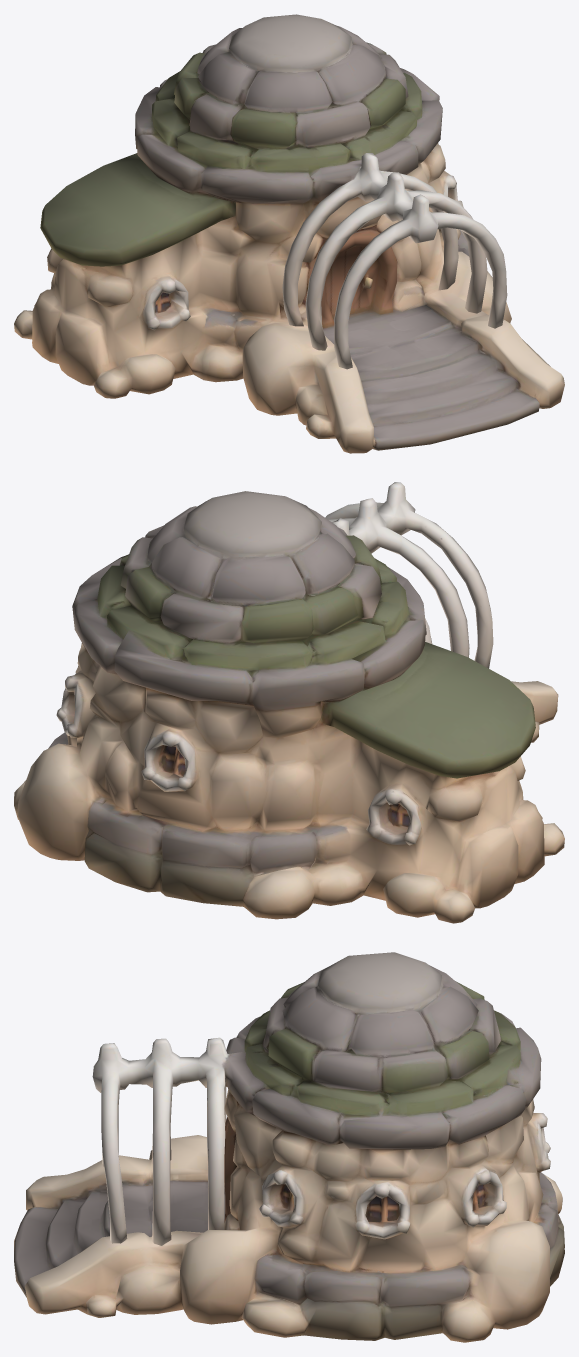
The model's file is bone-museum.glb.
The picture shows the model from 3 angles, top to bottom: view 1: azimuth 30°, elevation 25°; view 2: azimuth 150°, elevation 25°; view 3: azimuth 270°, elevation 25°; orthographic projection. The views are drawn at different scales.
Parts seen in each view (by area): view 1: Bone Museum; view 2: Bone Museum; view 3: Bone Museum.
Boxes of the visible parts, <box> form: Bone Museum: <box>14,14,564,453</box>; Bone Museum: <box>14,482,564,923</box>; Bone Museum: <box>14,952,564,1342</box>.
Bounding box in the file's own units: 0.8926 × 0.5879 × 0.998.
Materials: 1 (1 with a texture image).
